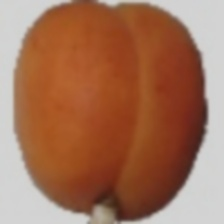apricot: (28, 12, 182, 174)
